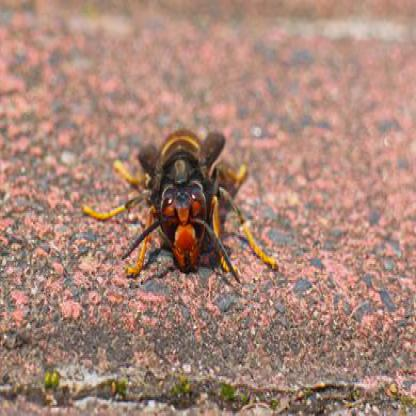Asian Hornet: (81, 127, 282, 282)
